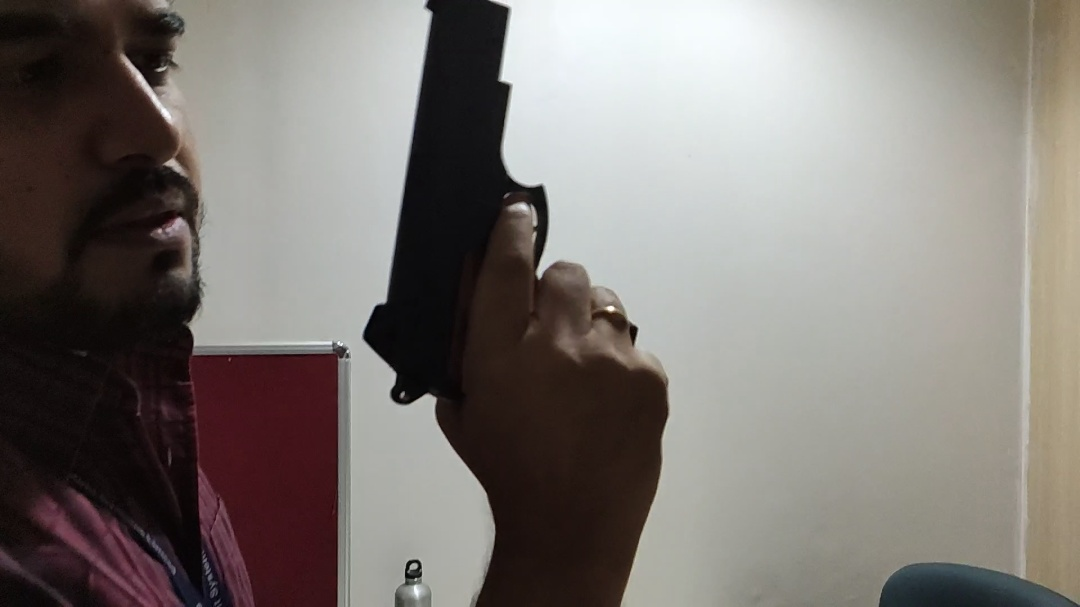gun: (352, 1, 604, 419)
